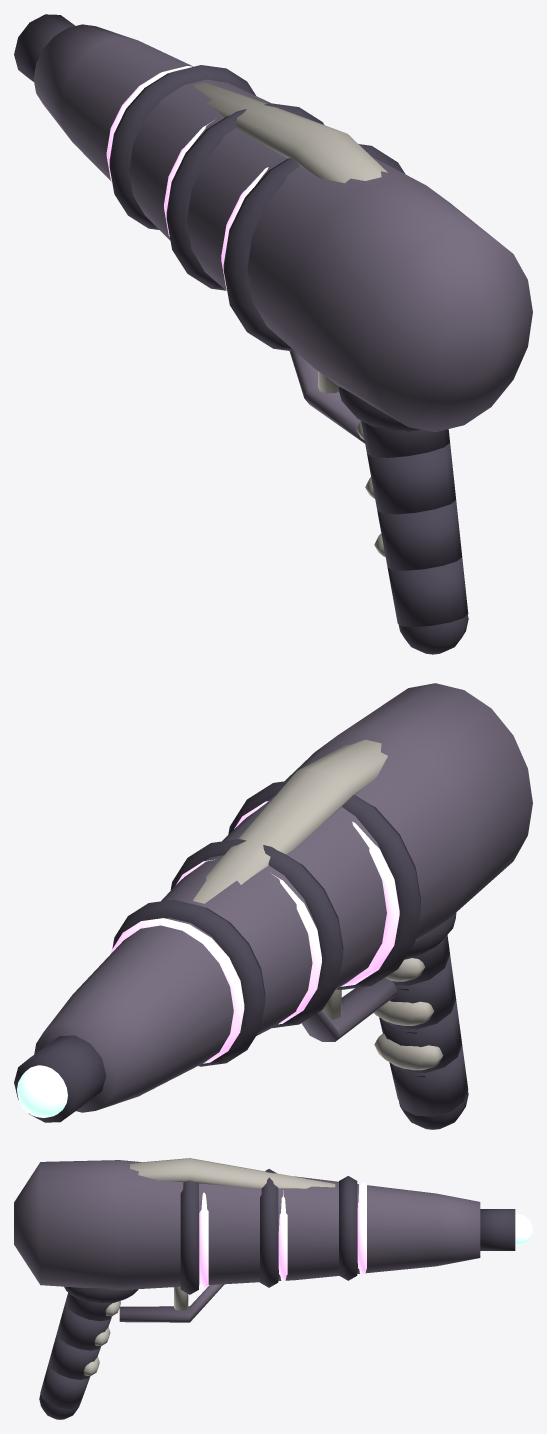
File: a_pistol.glb
3 views of the same model, one above another, from view 1: azimuth 30°, elevation 25°; view 2: azimuth 150°, elevation 25°; view 3: azimuth 270°, elevation 25° (orthographic). The views are drawn at different scales.
Parts seen in each view (by area): view 1: A_pistol; view 2: A_pistol; view 3: A_pistol.
Boxes of the visible parts, box(x1,y1,x2,y2) form: A_pistol: box(14, 14, 532, 654); A_pistol: box(14, 683, 532, 1129); A_pistol: box(14, 1158, 532, 1419).
Size of the model in its own units: 0.076 by 0.1606 by 0.295.
